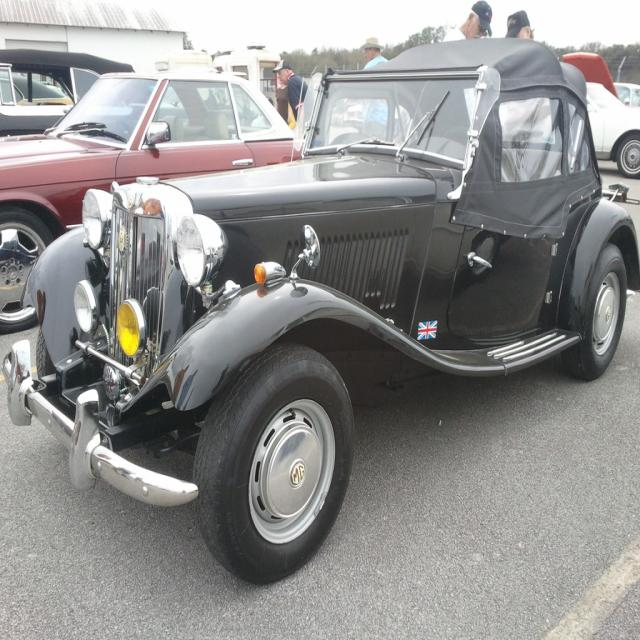Car: (0, 38, 640, 584), (1, 74, 358, 332)
